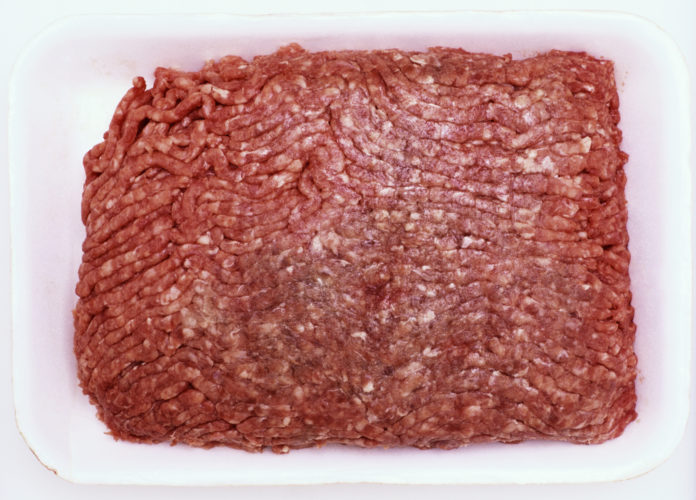ground_beef: (76, 53, 652, 441)
